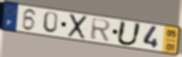0: (42, 11, 59, 35)
4: (141, 25, 161, 51)
6: (22, 8, 36, 32)
R: (90, 17, 113, 42)
U: (115, 20, 143, 47)
X: (66, 13, 89, 41)
